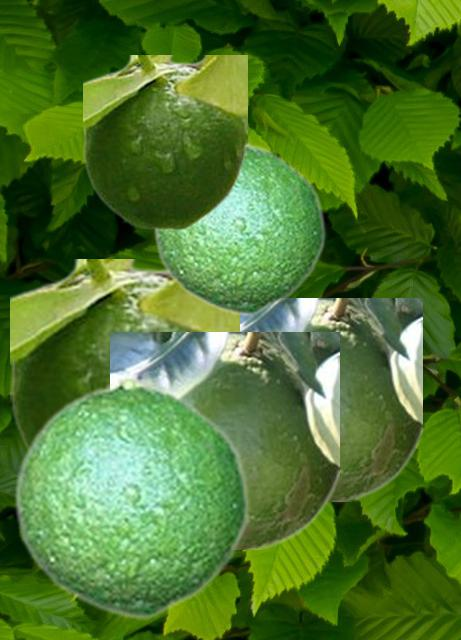dalandan: (12, 374, 249, 619), (110, 332, 338, 548), (10, 259, 238, 451), (239, 298, 421, 500), (152, 137, 325, 315), (83, 55, 246, 229)
